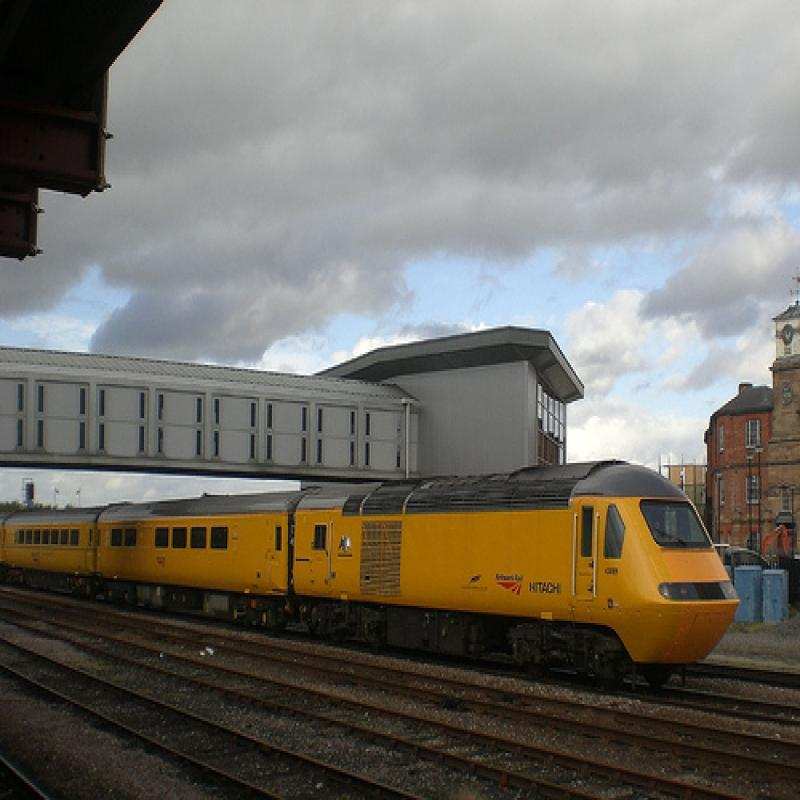train: (3, 458, 744, 684)
